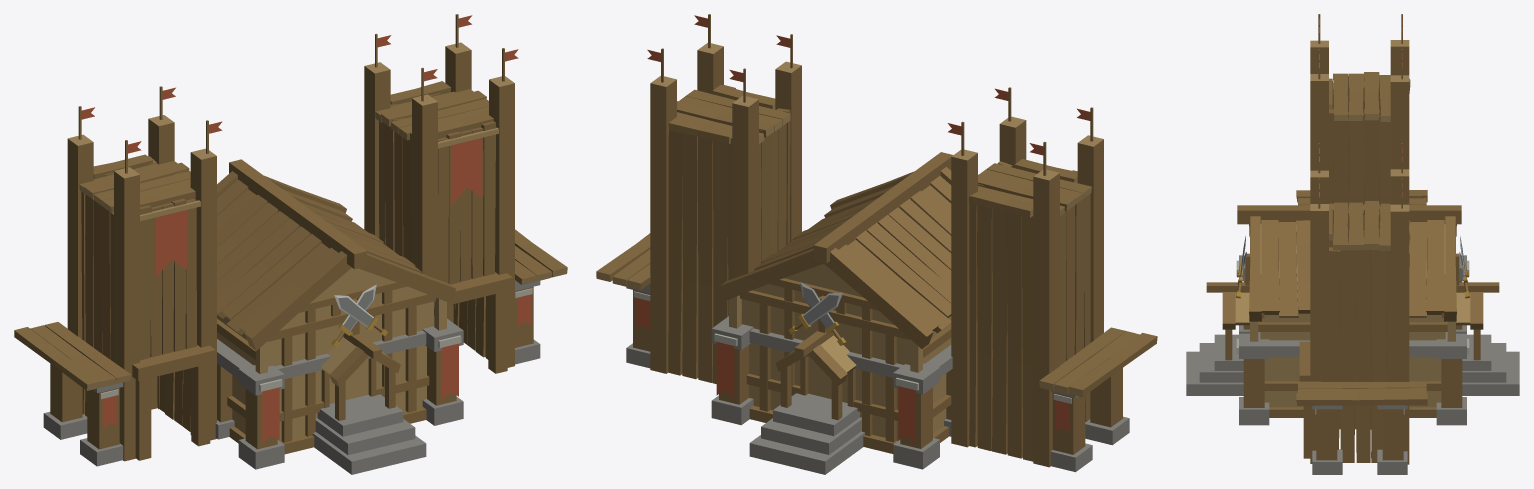
Rendered from Barracks_FirstAge_Level3.glb.
3 views of the same model, side by side, from view 1: azimuth 30°, elevation 25°; view 2: azimuth 150°, elevation 25°; view 3: azimuth 270°, elevation 25° (orthographic). The views are drawn at different scales.
Parts seen in each view (by area): view 1: Barracks_FirstAge_Level3; view 2: Barracks_FirstAge_Level3; view 3: Barracks_FirstAge_Level3.
Part boxes in pixels (x1,y1,x2,y2): Barracks_FirstAge_Level3: [14, 14, 567, 474]; Barracks_FirstAge_Level3: [596, 14, 1157, 474]; Barracks_FirstAge_Level3: [1186, 14, 1519, 474].
Size of the model in its own units: 2.33 by 1.47 by 1.57.
1 material, 1 textured.
